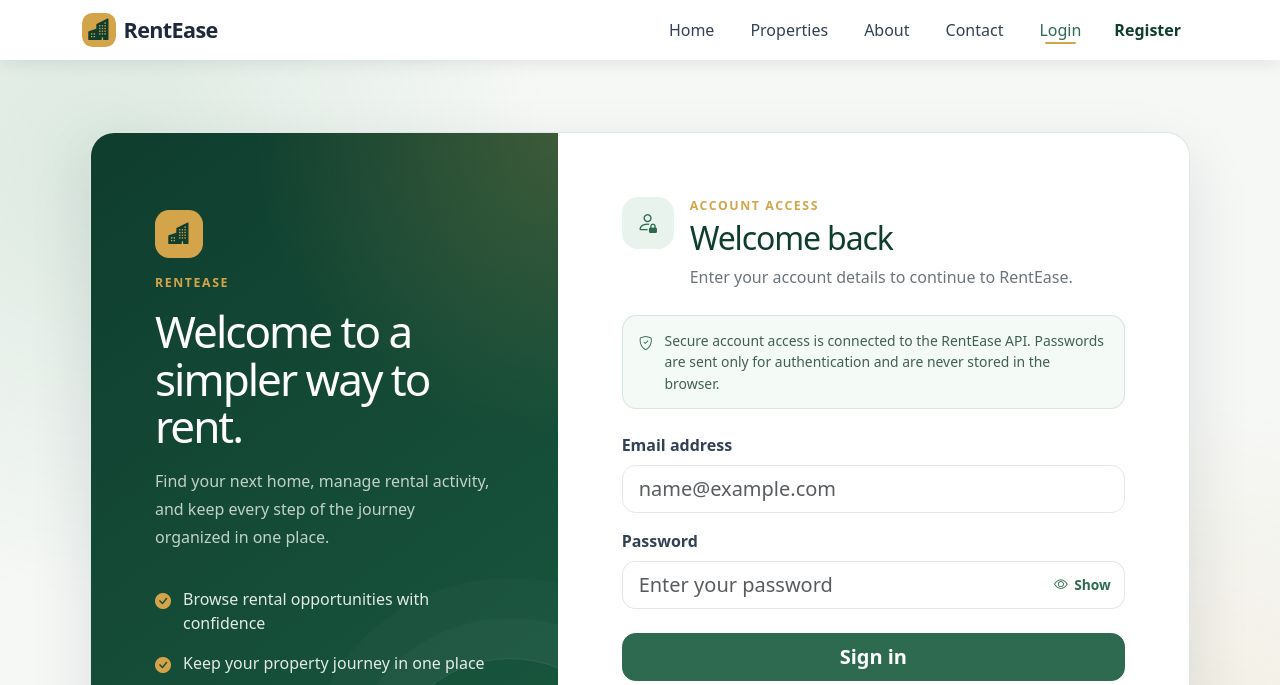
Scenario: Phase 1 frontend authentication flow › shows login validation before submitting
What coordinates should you click on to do the following:
click the button "Sign in"
I would click on:
 (873, 657)
Its box is [622,633,1125,681].
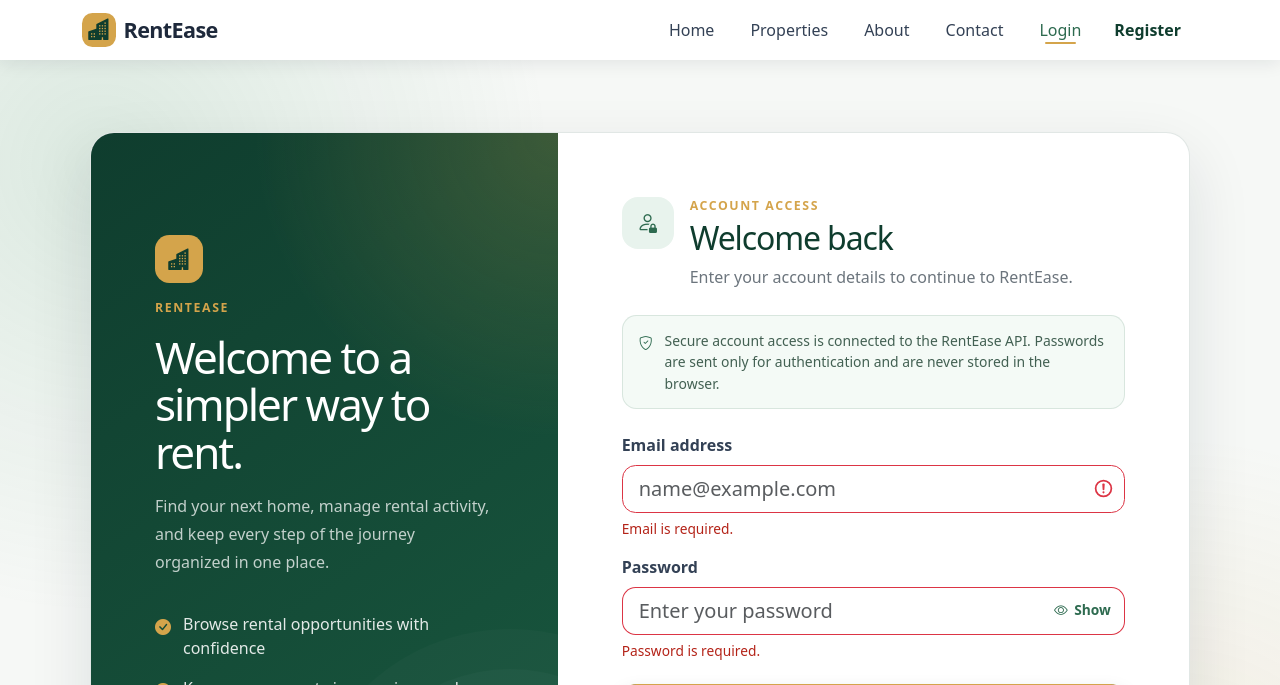
Expected: the text "Email is required." is shown, [622,519,733,538]
Expected: the text "Password is required." is shown, [622,641,760,660]
